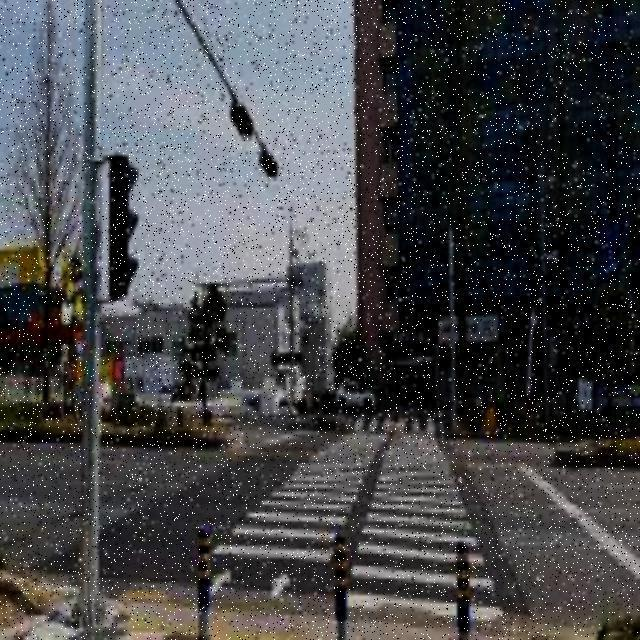Pedestrian crosswalk: (214, 434, 503, 620), (335, 406, 449, 443)
